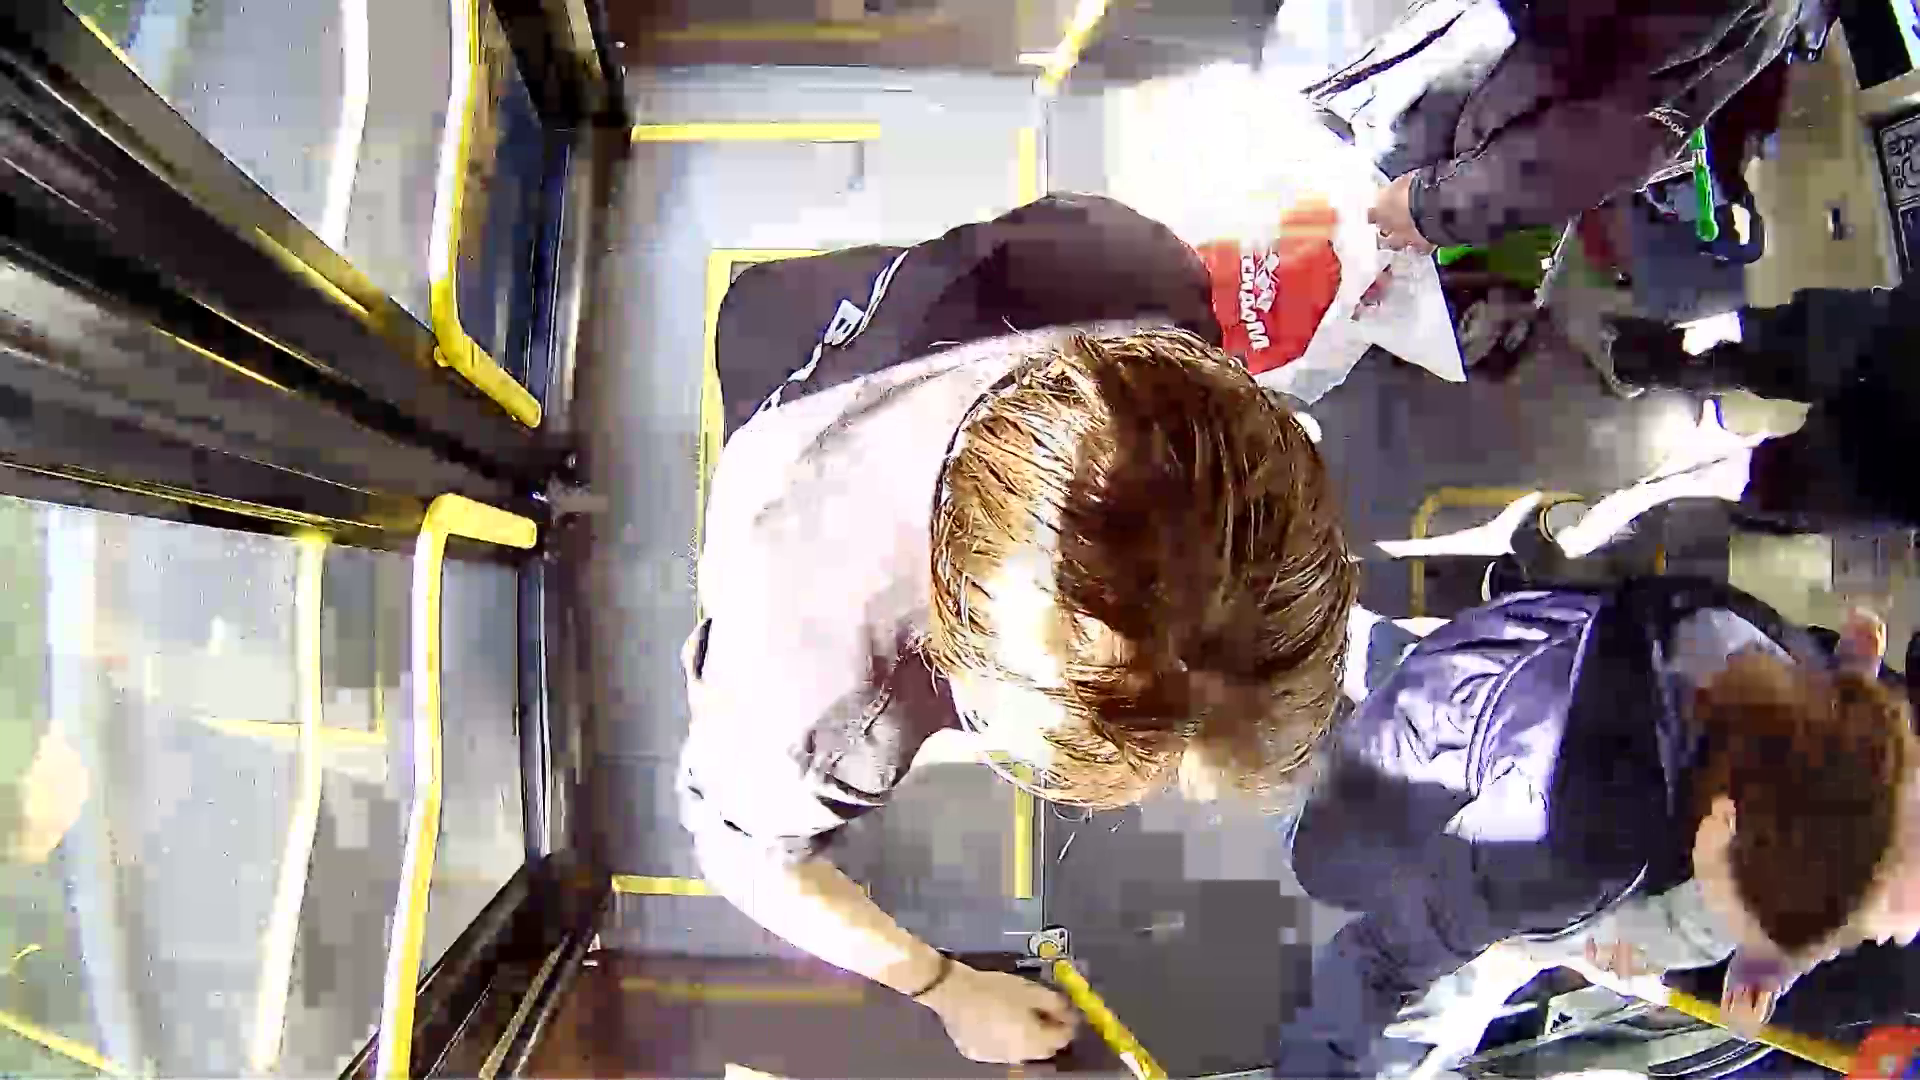person: (625, 232, 1418, 1068), (1421, 528, 1910, 1041)
